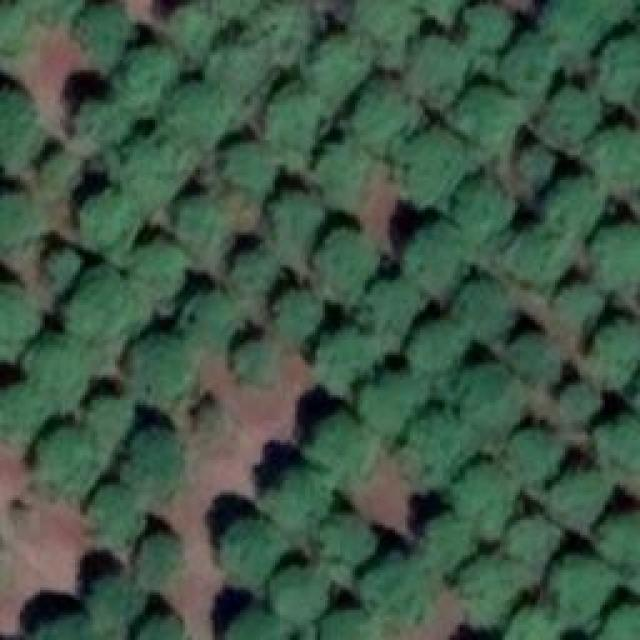Tree: (33, 425, 106, 495), (78, 270, 148, 343), (125, 135, 195, 208), (403, 127, 468, 205), (410, 407, 473, 485), (550, 555, 618, 625), (257, 100, 325, 163), (370, 553, 428, 626), (218, 523, 281, 588), (470, 365, 528, 435), (320, 228, 375, 301), (177, 197, 235, 265), (310, 422, 378, 480), (135, 333, 195, 398), (535, 0, 605, 55), (265, 470, 328, 530), (462, 90, 520, 155), (273, 187, 326, 255), (410, 230, 463, 298), (458, 188, 518, 248), (0, 380, 55, 445), (410, 43, 465, 108), (83, 3, 133, 73), (220, 33, 278, 93), (128, 430, 183, 493), (35, 335, 90, 398), (315, 143, 370, 206), (353, 290, 416, 345), (533, 98, 598, 151), (465, 463, 518, 528), (357, 0, 412, 62), (227, 332, 285, 390), (133, 243, 193, 298), (82, 193, 140, 248), (307, 43, 365, 98), (548, 182, 603, 240), (460, 568, 518, 623), (185, 288, 238, 348), (275, 285, 328, 345), (458, 283, 518, 336), (273, 565, 333, 618), (128, 45, 178, 108), (93, 575, 146, 633), (508, 233, 563, 288), (75, 95, 135, 145), (90, 485, 145, 538), (355, 88, 408, 143), (358, 380, 413, 433), (585, 138, 640, 191), (555, 473, 610, 526), (423, 517, 473, 575), (180, 80, 228, 140), (592, 318, 640, 378), (508, 520, 561, 573), (135, 535, 185, 590), (0, 287, 40, 355), (597, 222, 640, 285), (595, 38, 640, 98), (318, 343, 371, 393), (323, 515, 376, 565), (460, 2, 515, 50), (410, 325, 465, 373), (515, 333, 563, 386), (518, 430, 571, 478), (553, 285, 603, 333), (0, 192, 42, 249), (602, 510, 640, 573), (178, 0, 231, 45), (268, 3, 313, 56), (0, 90, 35, 158), (597, 415, 640, 470), (560, 375, 608, 423), (38, 148, 81, 201), (508, 45, 551, 98), (235, 245, 280, 293), (225, 148, 275, 191), (93, 393, 138, 438), (40, 245, 80, 288), (0, 3, 30, 58), (15, 0, 85, 22), (50, 612, 105, 640), (325, 612, 380, 640), (220, 615, 280, 640), (510, 610, 560, 640), (600, 605, 640, 640), (139, 617, 192, 640), (520, 155, 553, 183), (203, 405, 228, 435)
